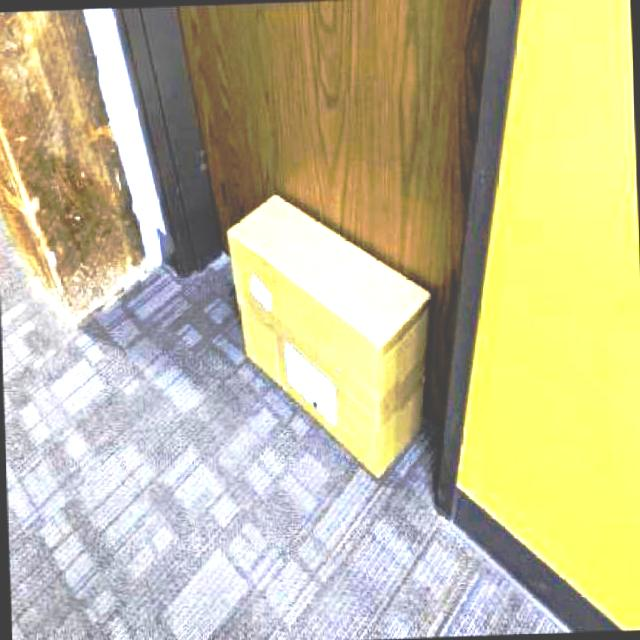Box: (220, 180, 440, 488)
